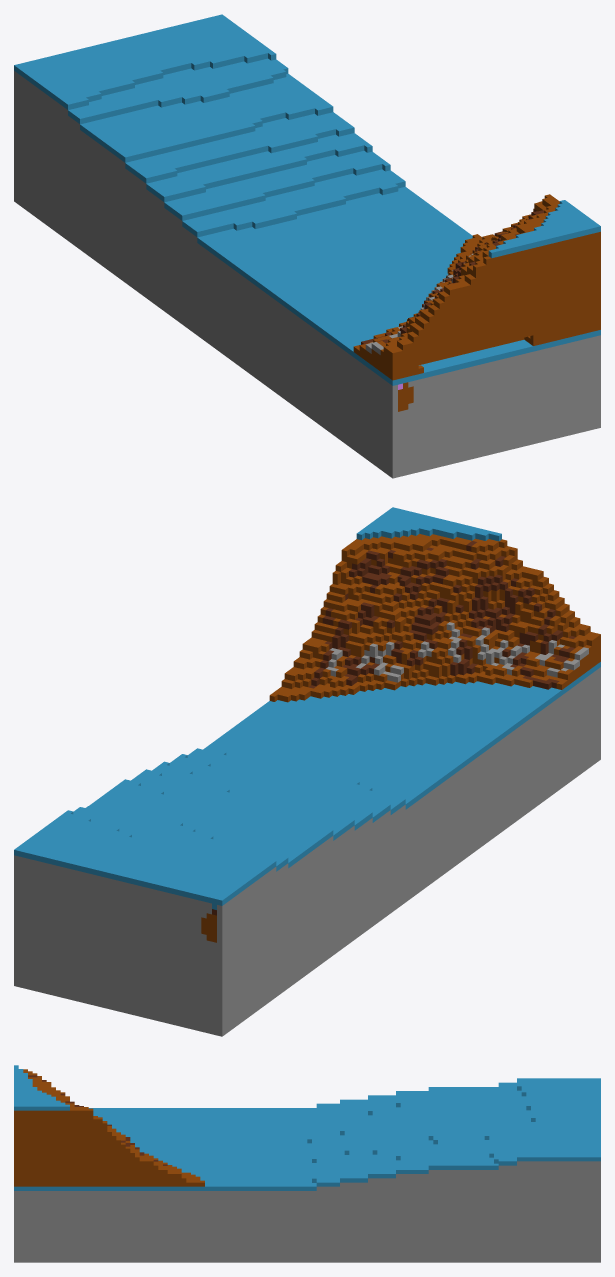
Rendered from level 1 - Part 5 - Naast.obj.
3 views of the same model, one above another, from view 1: azimuth 30°, elevation 25°; view 2: azimuth 150°, elevation 25°; view 3: azimuth 270°, elevation 25° (orthographic). The views are drawn at different scales.
Size of the model in its own units: 40 by 37 by 126.
Materials: 1 (1 with a texture image).
